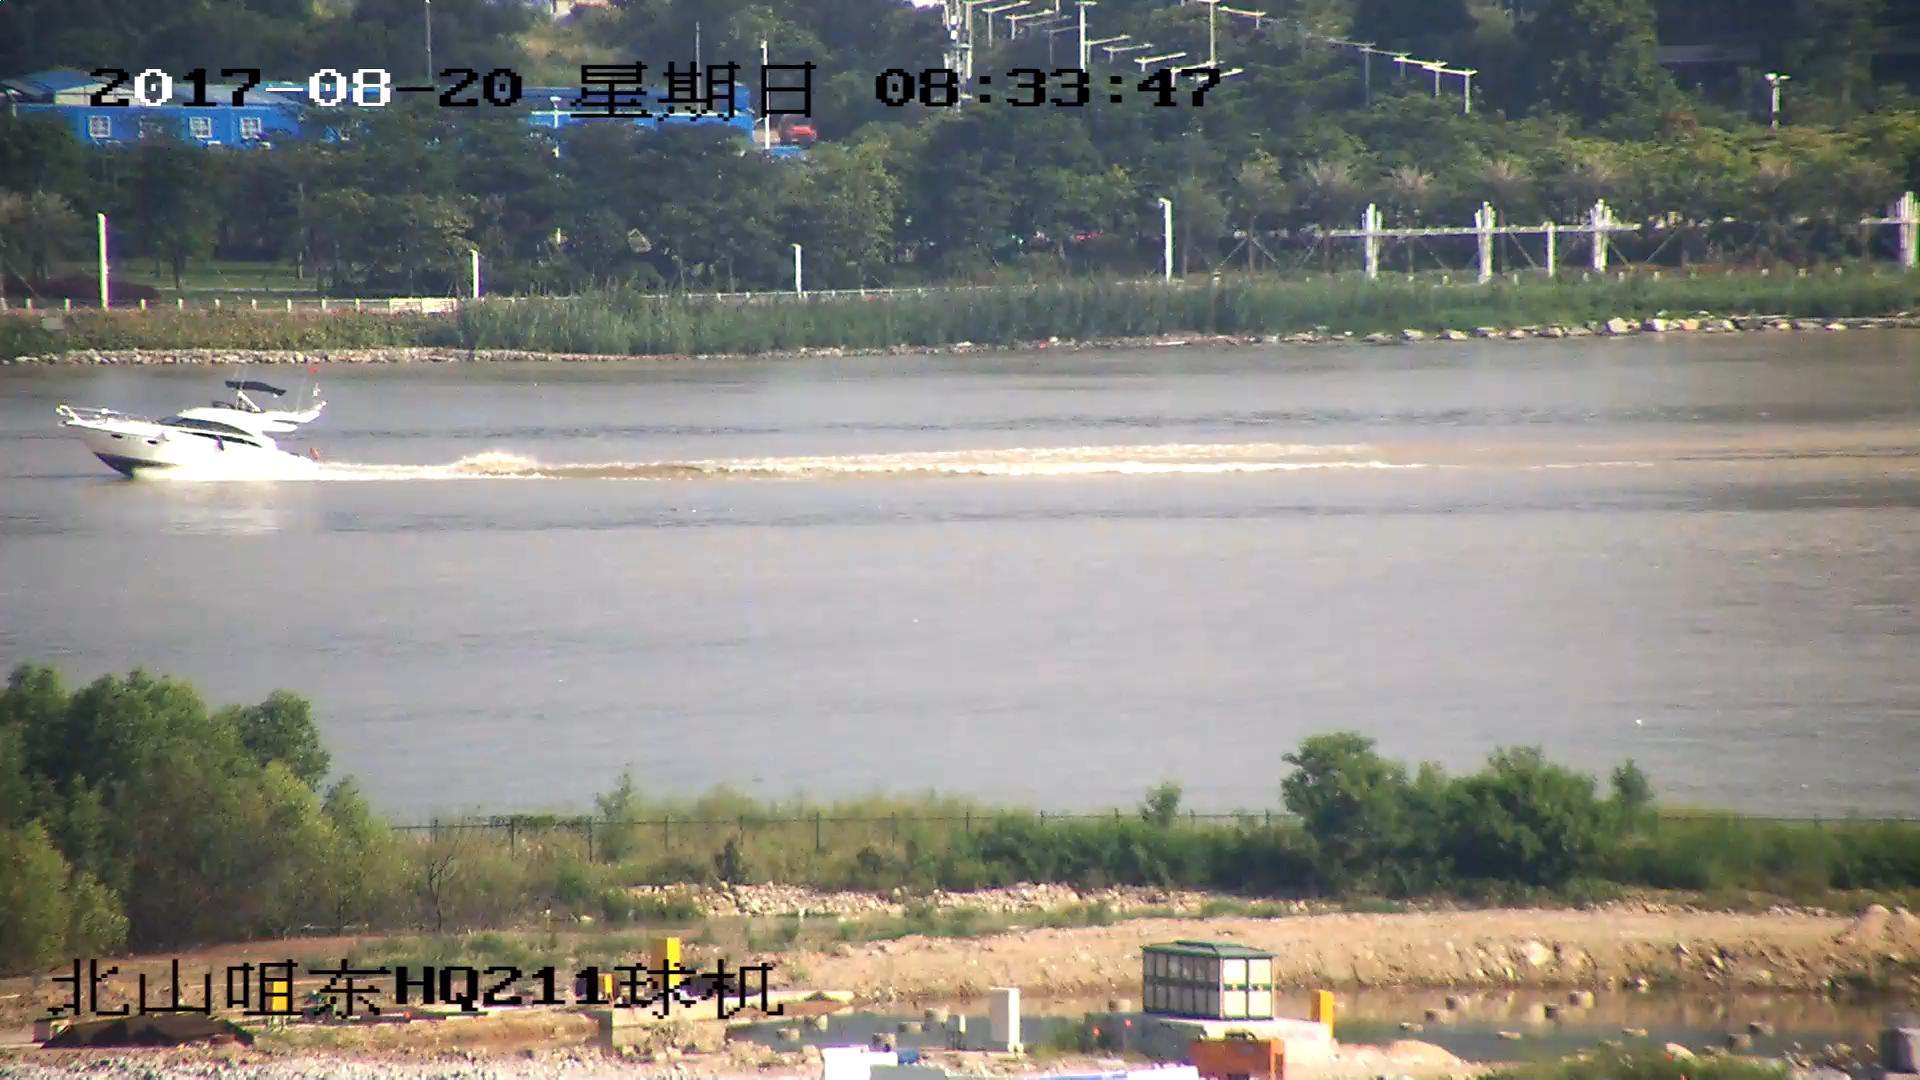passenger ship: (53, 373, 339, 481)
